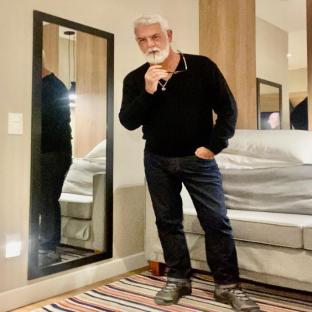Human: (119, 15, 259, 312)
